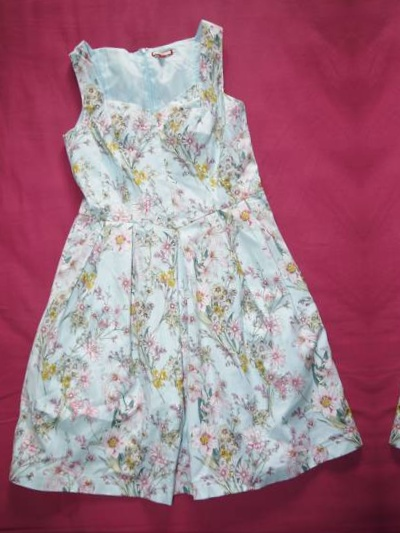Dress: (0, 0, 346, 501), (382, 0, 400, 477), (0, 0, 316, 7)
